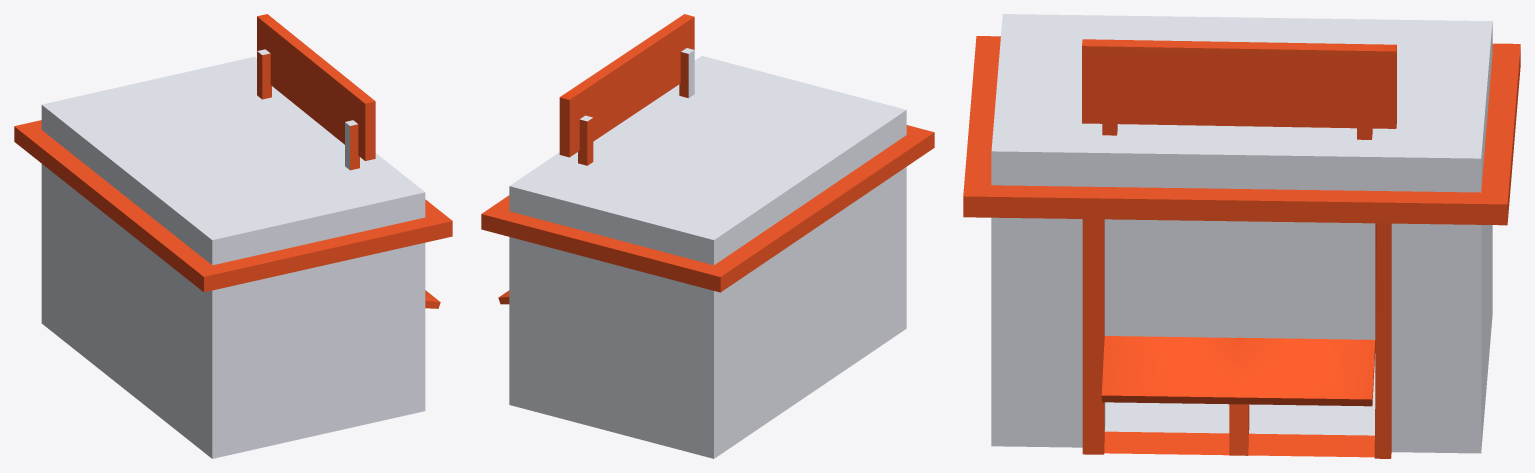
File: MakDak.fbx
The picture shows the model from 3 angles, left to right: view 1: azimuth 30°, elevation 25°; view 2: azimuth 150°, elevation 25°; view 3: azimuth 270°, elevation 25°; orthographic projection. The views are drawn at different scales.
Visible parts, largest first — view 1: MakDak; view 2: MakDak; view 3: MakDak.
Boxes of the visible parts, <box> form: MakDak: <box>14,14,452,458</box>; MakDak: <box>481,14,934,458</box>; MakDak: <box>963,14,1520,458</box>.
Size of the model in its own units: 2.28 by 2.17 by 2.82.
